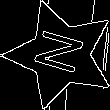N_E: (29, 28, 92, 81)
